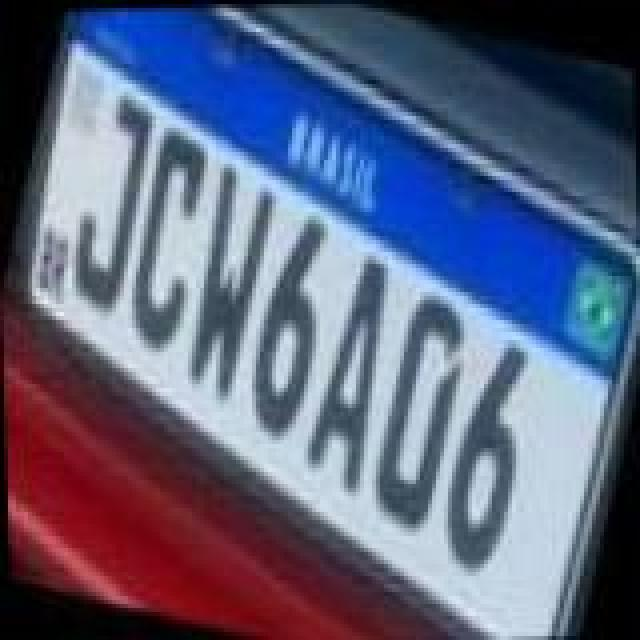6: (418, 326, 550, 578), (226, 204, 350, 444)
A: (290, 248, 418, 496)
C: (104, 118, 228, 358)
D: (354, 282, 486, 530)
J: (52, 84, 172, 316)
W: (158, 162, 286, 410)
